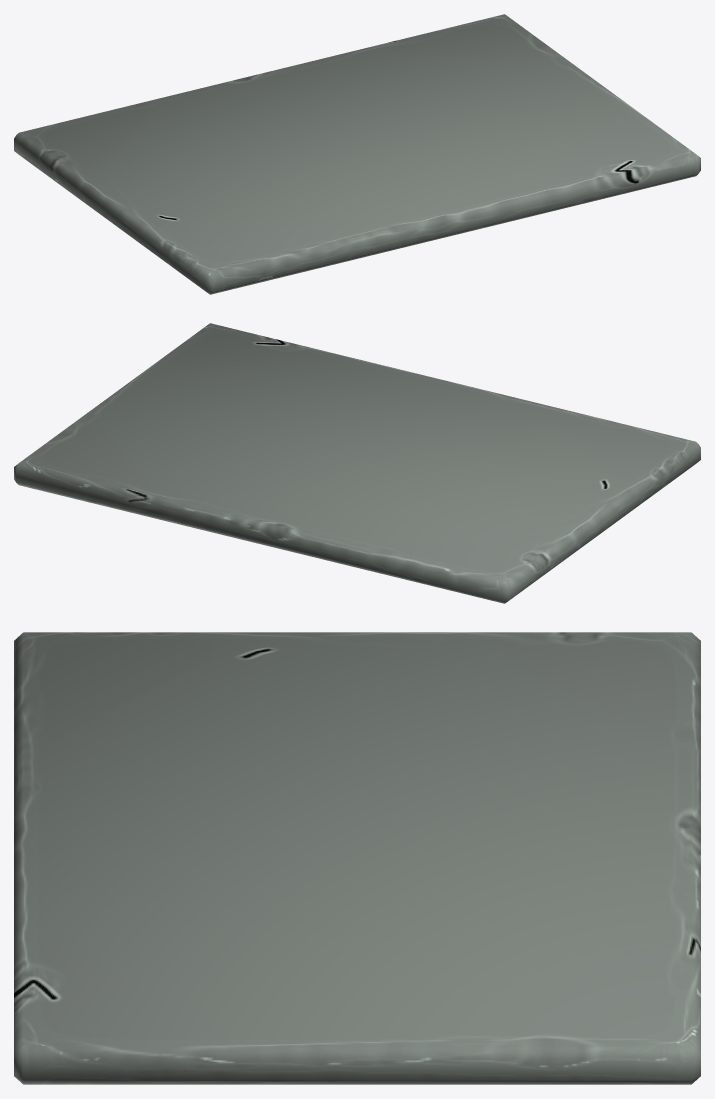
Rendered from Slab01.fbx.
3 views of the same model, one above another, from view 1: azimuth 30°, elevation 25°; view 2: azimuth 150°, elevation 25°; view 3: azimuth 270°, elevation 25° (orthographic). The views are drawn at different scales.
Parts seen in each view (by area): view 1: Slab01_LOD0; view 2: Slab01_LOD0; view 3: Slab01_LOD0.
Part boxes in pixels (x1=…): Slab01_LOD0: x1=14, y1=14, x2=700, y2=294; Slab01_LOD0: x1=14, y1=323, x2=700, y2=603; Slab01_LOD0: x1=14, y1=632, x2=700, y2=1084.
Size of what is drawn, in the model's own units: 107 by 4.51 by 73.59.
1 material, 1 textured.
